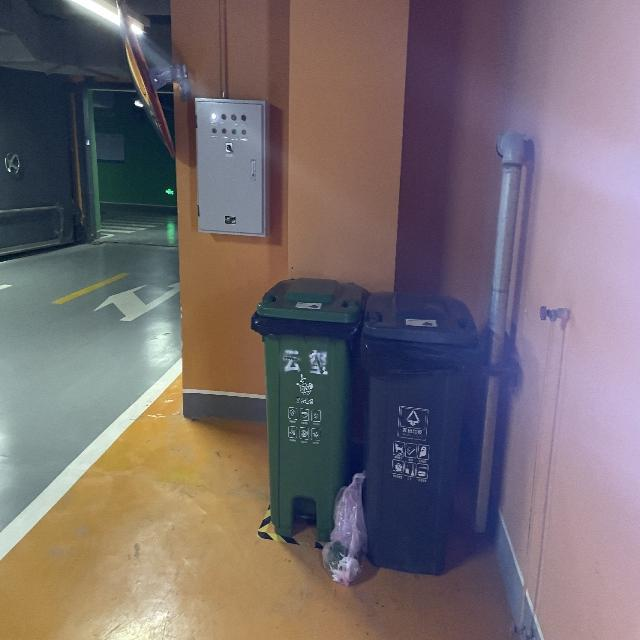garbage: (320, 469, 367, 586)
garbage_bin: (360, 292, 478, 577), (250, 277, 362, 541)
